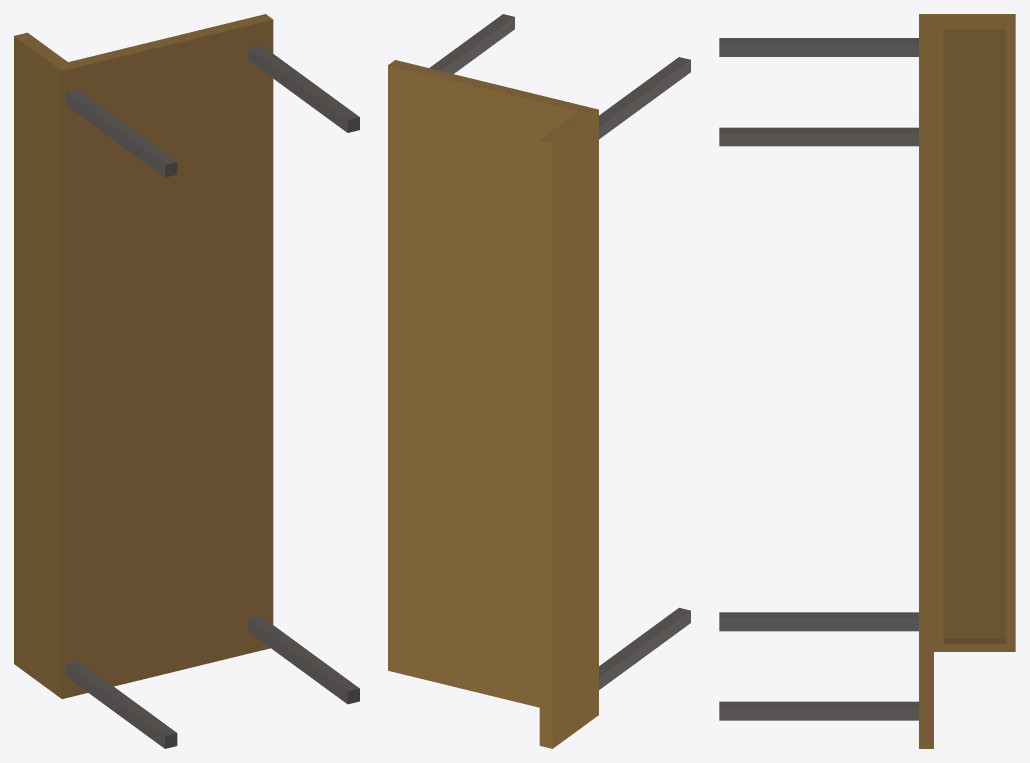
File: Desk2.glb
3 views of the same model, side by side, from view 1: azimuth 30°, elevation 25°; view 2: azimuth 150°, elevation 25°; view 3: azimuth 270°, elevation 25° (orthographic). The views are drawn at different scales.
Parts seen in each view (by area): view 1: SO_Desk_02; view 2: SO_Desk_02; view 3: SO_Desk_02.
Part boxes in pixels (x1,y1,x2,y2): SO_Desk_02: [14, 14, 359, 748]; SO_Desk_02: [388, 14, 690, 748]; SO_Desk_02: [719, 14, 1015, 748].
Bounding box in the file's own units: 1.8 × 5.11 × 2.17.
1 material, 1 textured.
